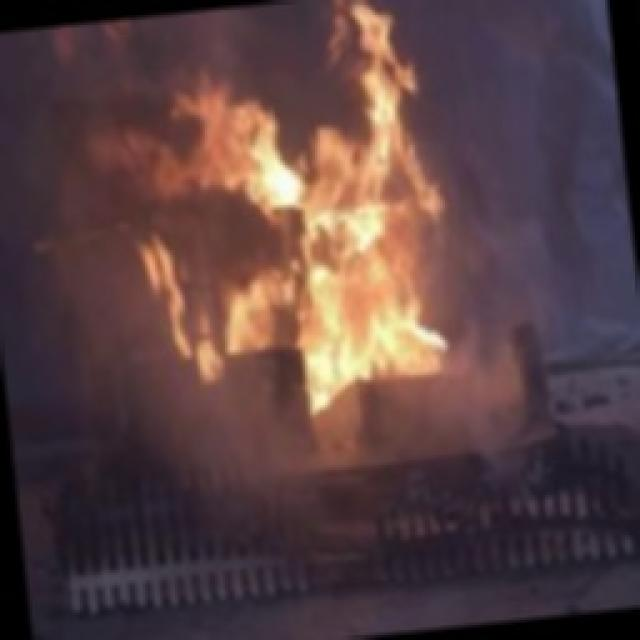fire: (122, 0, 478, 418)
